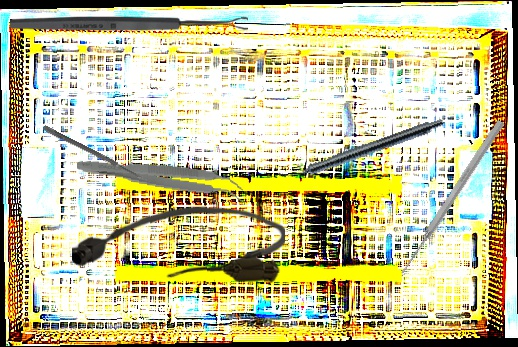Cannula: (71, 204, 286, 283)
Handpiece: (277, 112, 446, 188)
Pusher: (397, 118, 507, 276)
Surgical Spoon: (42, 125, 152, 185), (10, 16, 248, 32)
Tissue Forceps: (74, 153, 246, 204)
